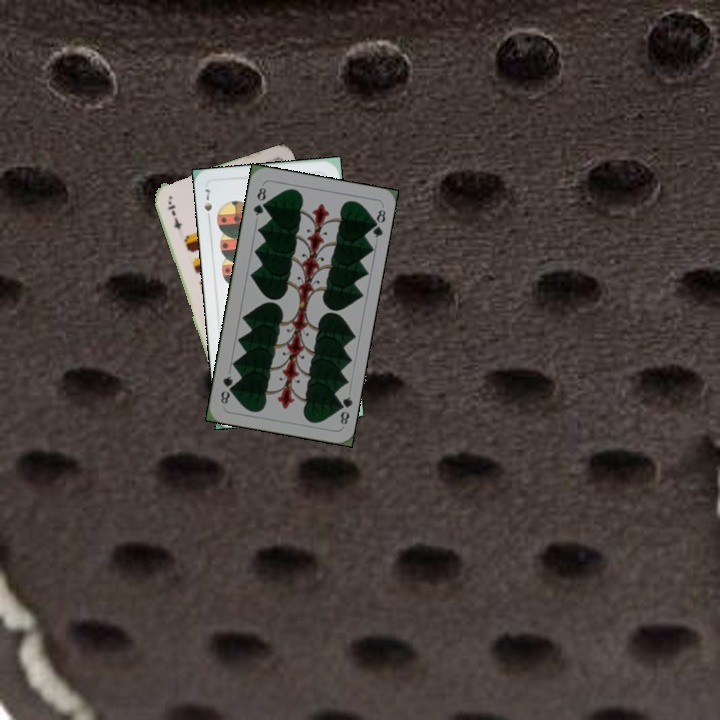E7: (163, 197, 184, 232)
G8: (333, 392, 355, 427), (249, 183, 269, 218)
S7: (200, 185, 215, 214)
